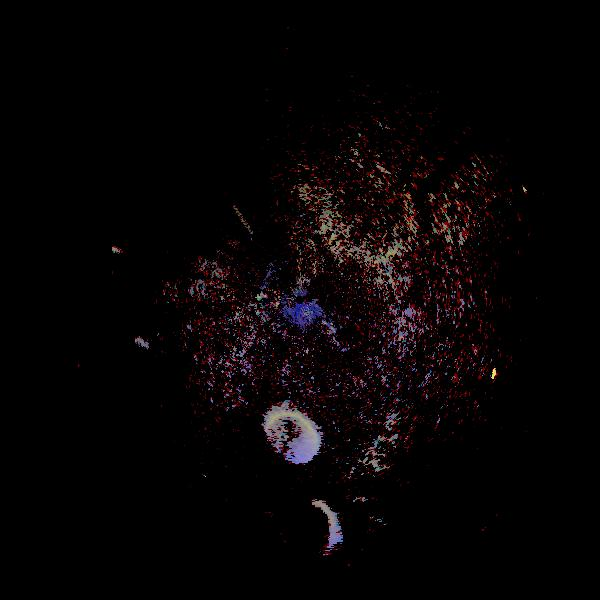roost: (253, 403, 325, 475), (287, 497, 347, 557)
